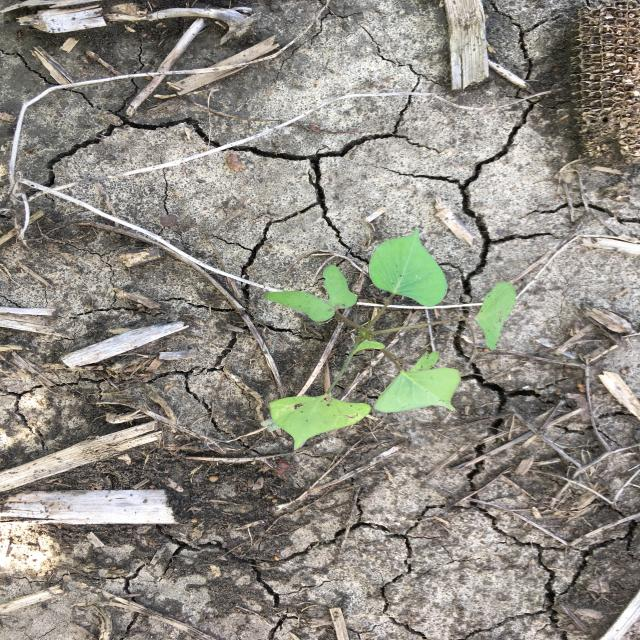MorningGlory: (262, 234, 520, 451)
